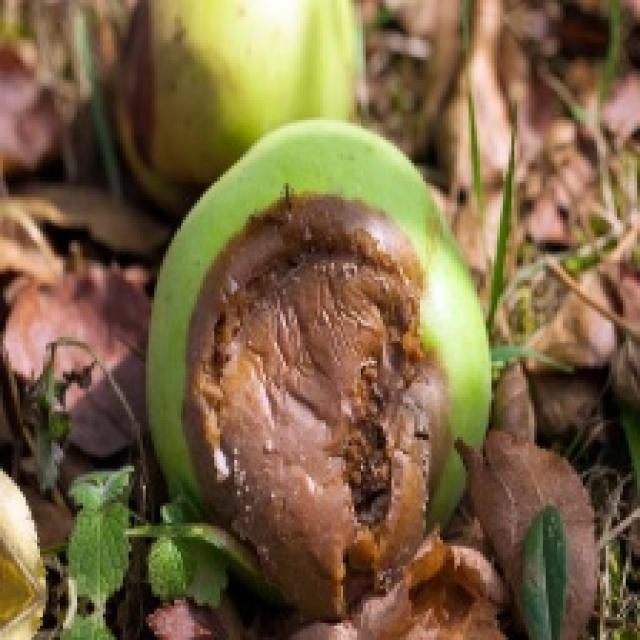50-_ripeness: (116, 8, 363, 121)
rotten_apple: (153, 125, 490, 575)
